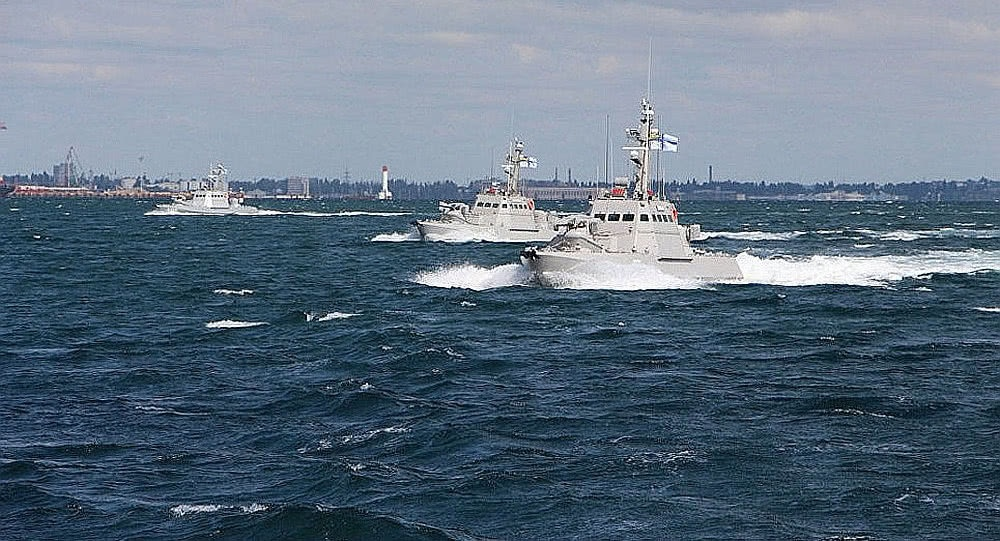warship: (513, 127, 756, 304), (406, 158, 610, 247), (140, 164, 283, 219)
